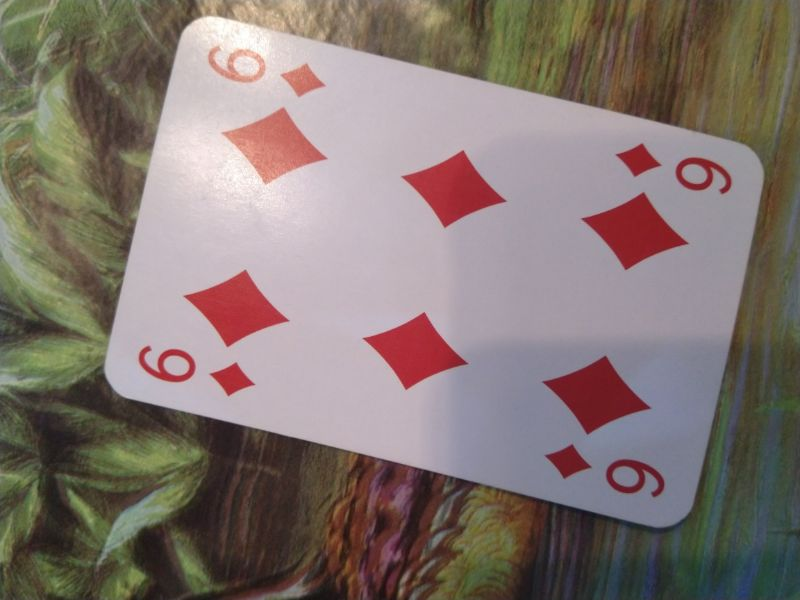6d: (542, 439, 668, 502), (133, 340, 264, 400), (201, 40, 329, 99), (611, 138, 736, 197)
